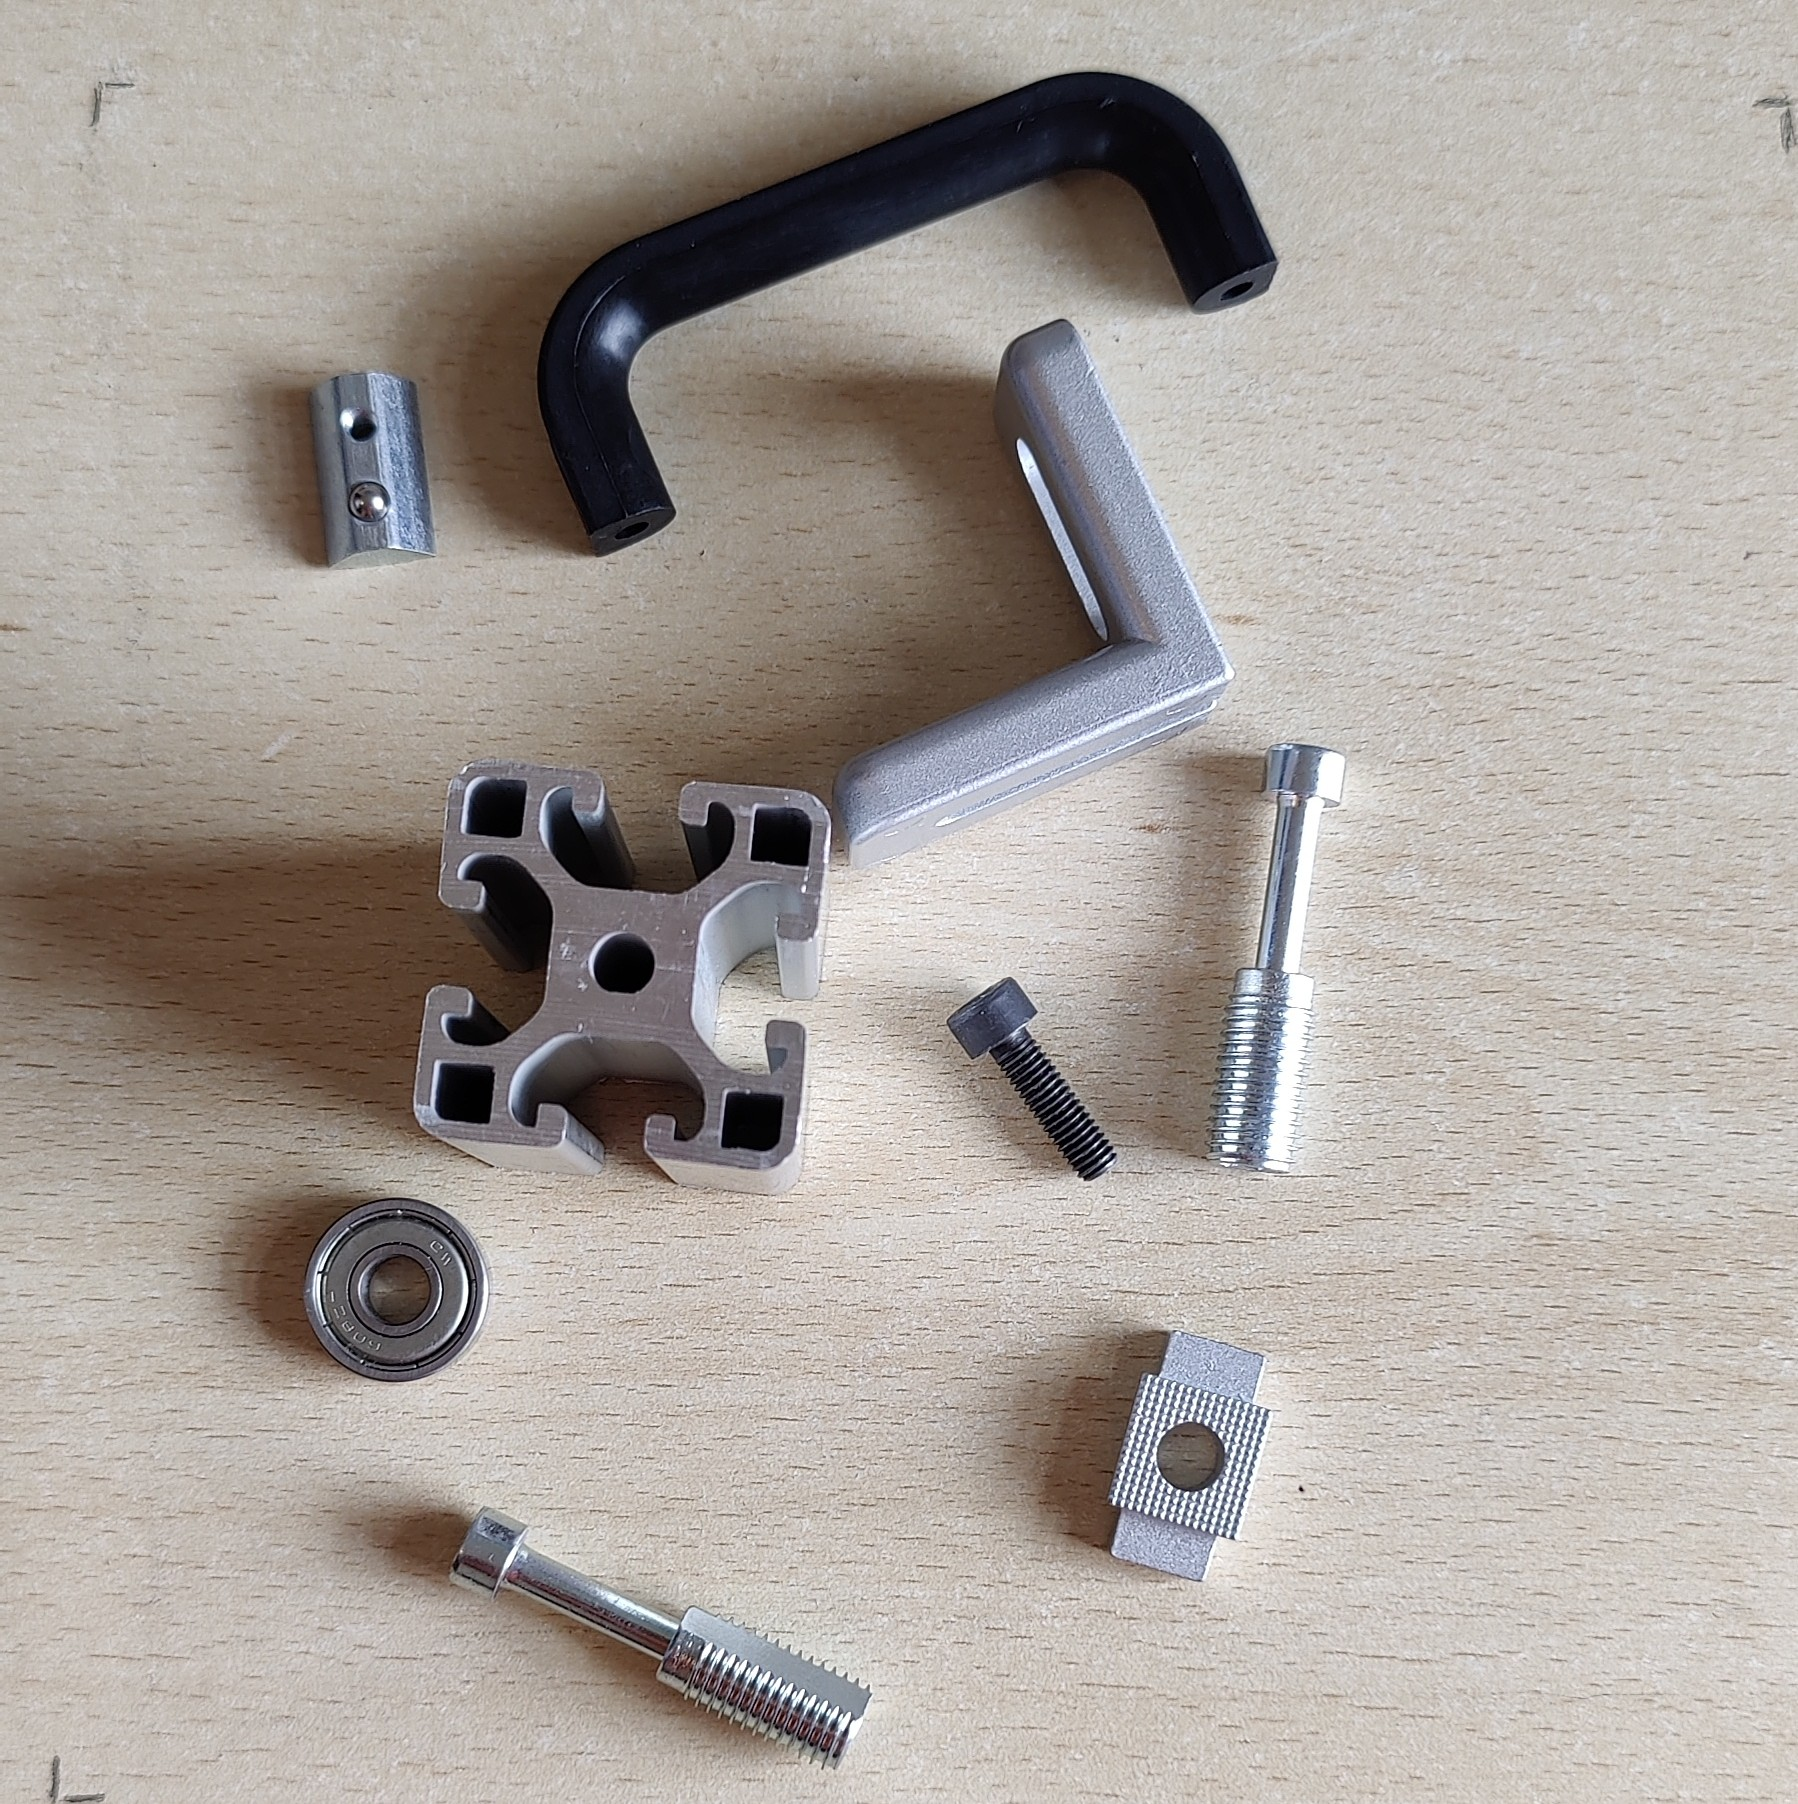Aluminium Extension: (412, 759, 835, 1197)
Ball Bearing: (300, 1197, 492, 1384)
Multiwinkel: (831, 314, 1237, 876)
Pull Handle: (537, 66, 1281, 560)
Shoulder Socket Head Cap Screw: (443, 1499, 878, 1773), (1200, 741, 1352, 1177)
Socket Head Cap Screw: (945, 974, 1121, 1187)
T Nut Square: (1106, 1327, 1274, 1587)
T Spring Nut: (305, 367, 441, 573)
